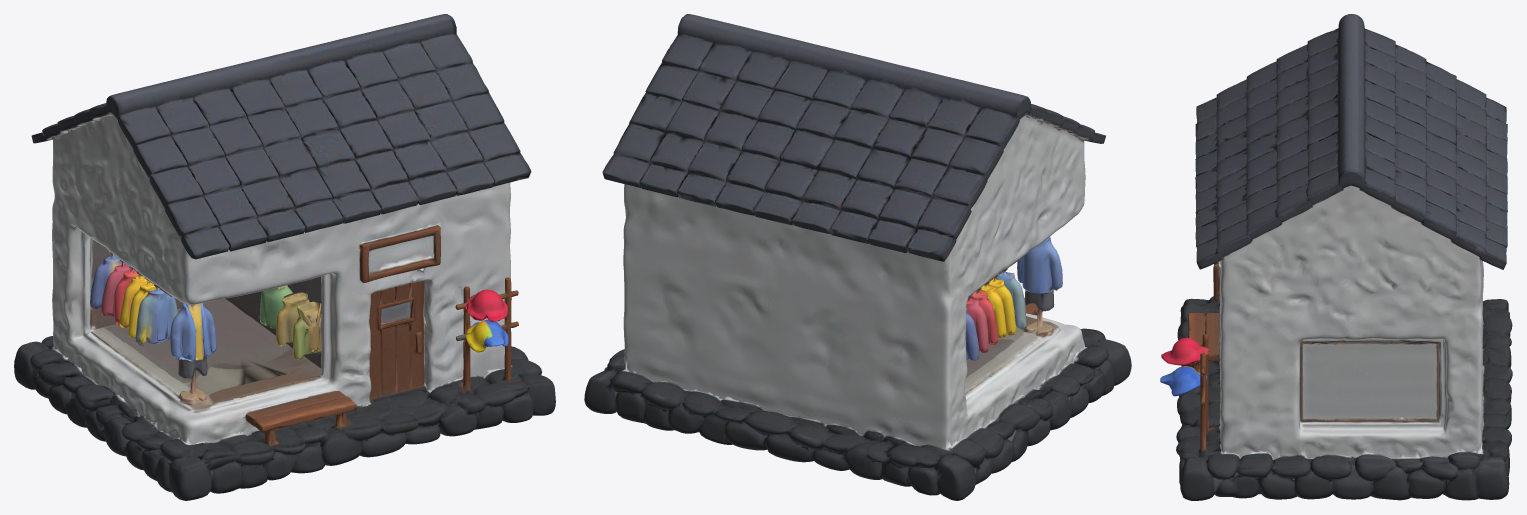
File: shop-leap.glb
The picture shows the model from 3 angles, left to right: view 1: azimuth 30°, elevation 25°; view 2: azimuth 150°, elevation 25°; view 3: azimuth 270°, elevation 25°; orthographic projection. The views are drawn at different scales.
Visible parts, largest first — view 1: tripo_node_3f4dc88b-7058-4b1f-81b3-d799c54ac372; view 2: tripo_node_3f4dc88b-7058-4b1f-81b3-d799c54ac372; view 3: tripo_node_3f4dc88b-7058-4b1f-81b3-d799c54ac372.
Part boxes in pixels (x1,y1,x2,y2): tripo_node_3f4dc88b-7058-4b1f-81b3-d799c54ac372: (14,14,555,500); tripo_node_3f4dc88b-7058-4b1f-81b3-d799c54ac372: (584,14,1131,500); tripo_node_3f4dc88b-7058-4b1f-81b3-d799c54ac372: (1160,14,1512,500).
Size of the model in its own units: 0.9792 by 0.8341 by 0.8184.
Materials: 1 (1 with a texture image).
